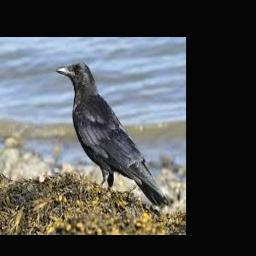Crow: (57, 62, 169, 207)
